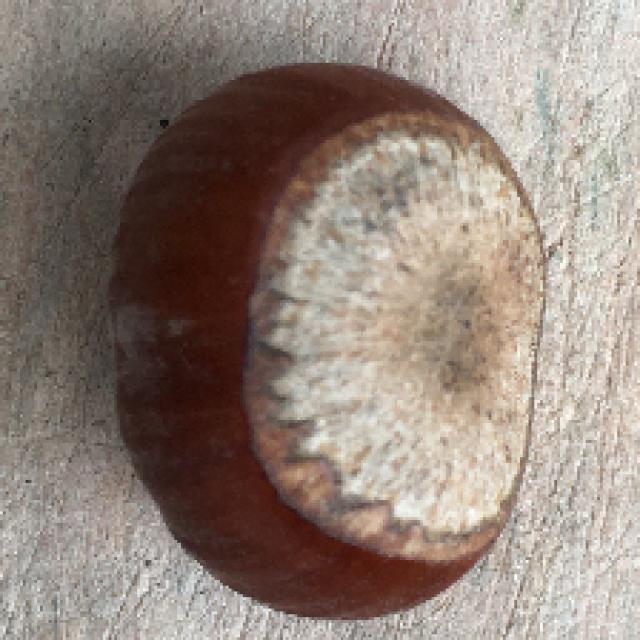qualityHazelnut: (101, 53, 547, 621)
